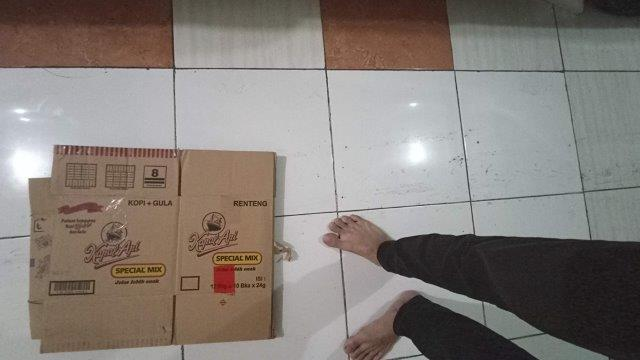kardus: (30, 146, 276, 352)
